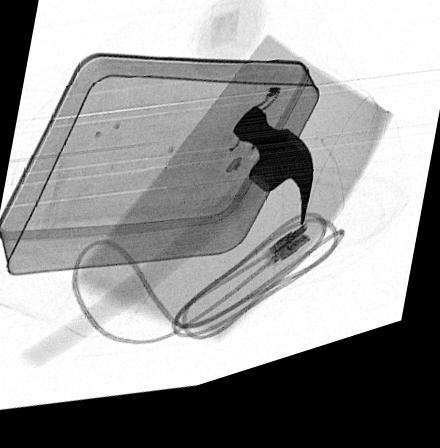Hammer: (16, 117, 313, 370)
